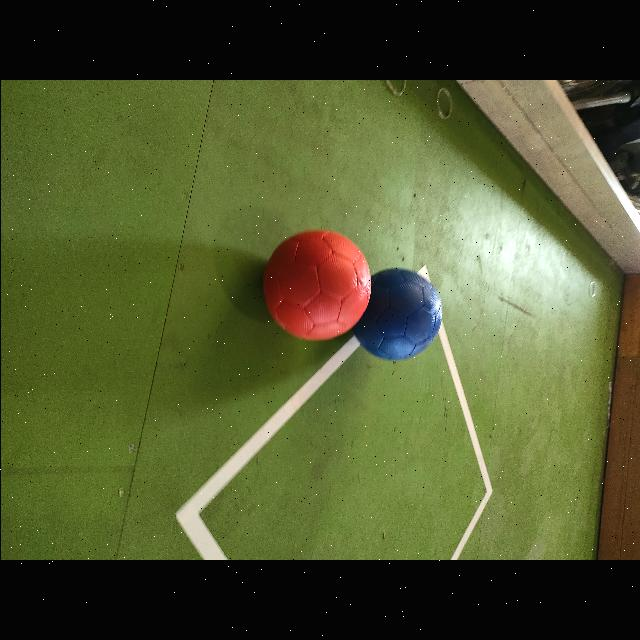B: (352, 269, 440, 361)
R: (264, 230, 370, 340)
